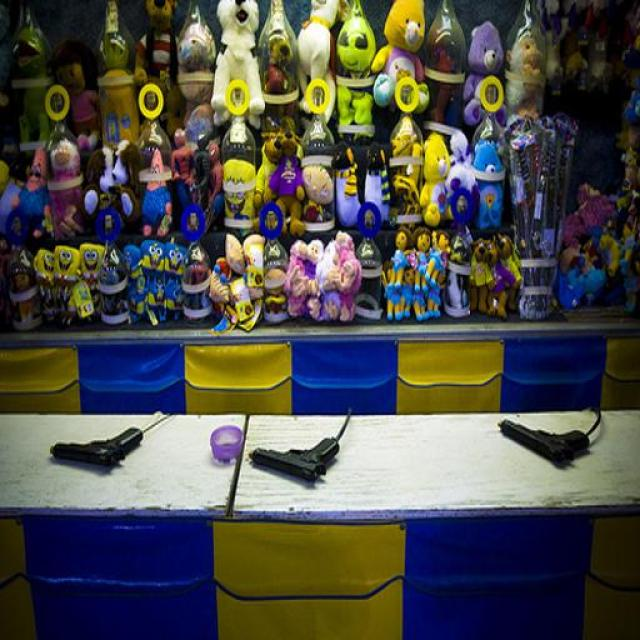pistol: (242, 426, 340, 487), (498, 416, 593, 472), (49, 422, 143, 472)
